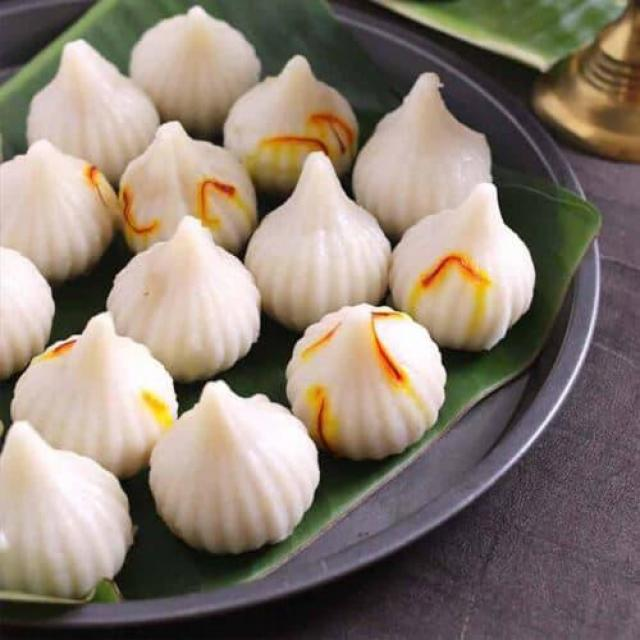modak: (368, 169, 547, 363), (146, 382, 331, 569), (280, 296, 450, 470), (241, 140, 397, 327), (11, 319, 183, 484), (98, 212, 265, 380), (348, 70, 514, 232), (0, 420, 133, 618), (22, 42, 165, 176), (220, 63, 370, 188), (0, 144, 129, 287), (129, 2, 260, 140)
